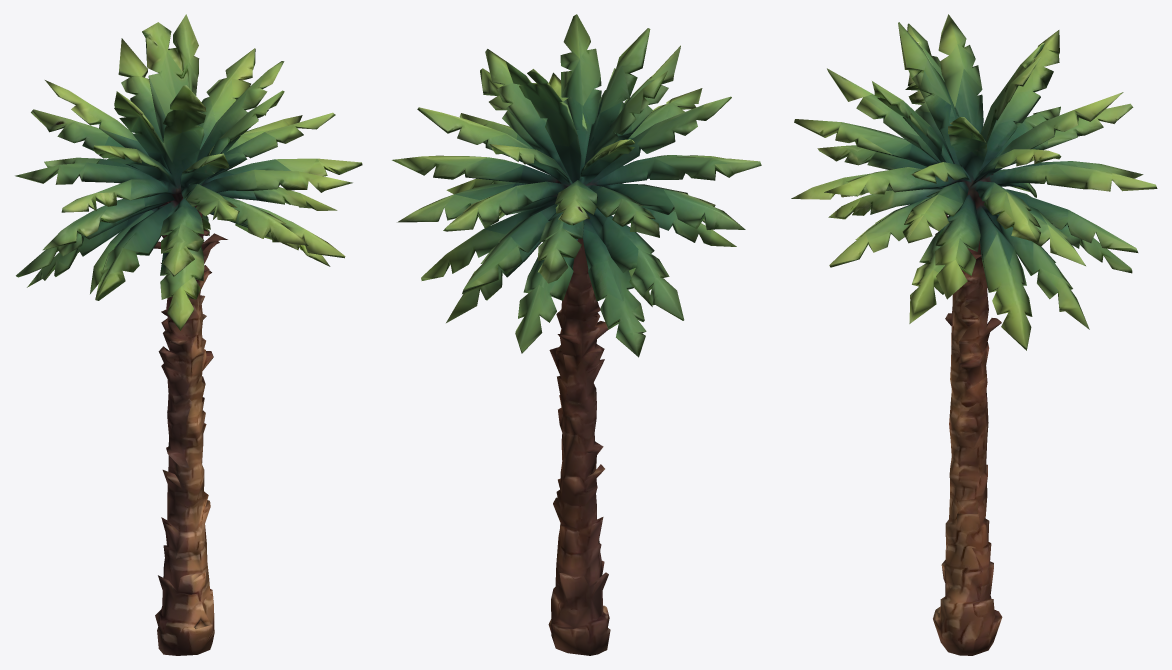
Rendered from palm.glb.
3 views of the same model, side by side, from view 1: azimuth 30°, elevation 25°; view 2: azimuth 150°, elevation 25°; view 3: azimuth 270°, elevation 25° (orthographic).
Parts seen in each view (by area): view 1: palm; view 2: palm; view 3: palm.
Boxes of the visible parts, x1,y1,x2,y2 form: palm: (15, 14, 362, 655); palm: (392, 14, 761, 655); palm: (791, 14, 1157, 655).
Size of the model in its own units: 0.5368 by 1 by 0.5475.
Materials: 1 (1 with a texture image).
